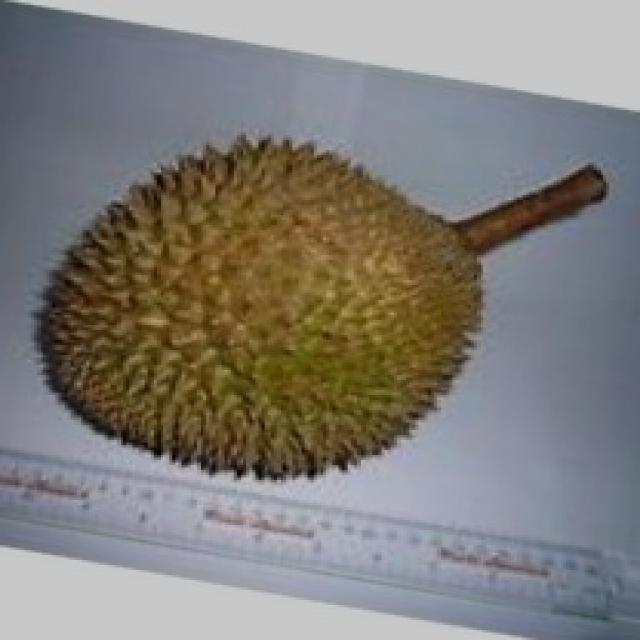fruit: (6, 105, 379, 527)
